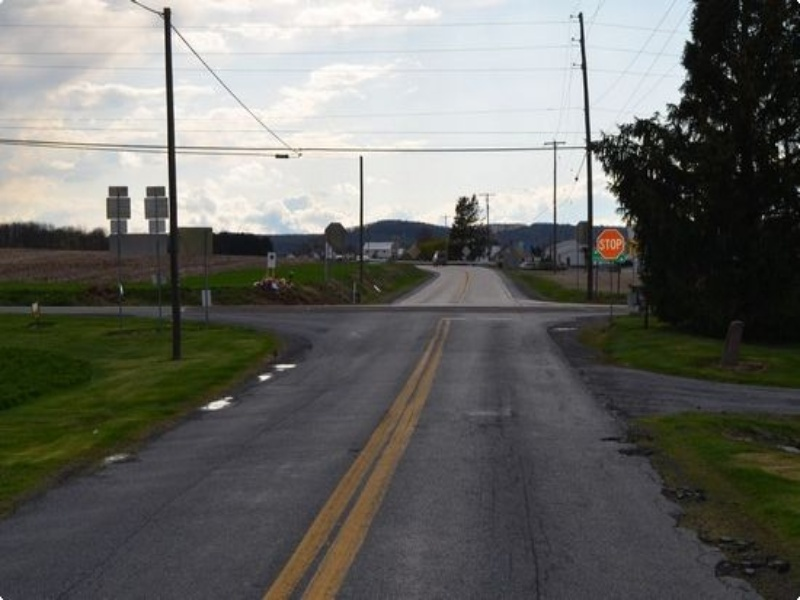stop sign: (593, 228, 627, 263)
